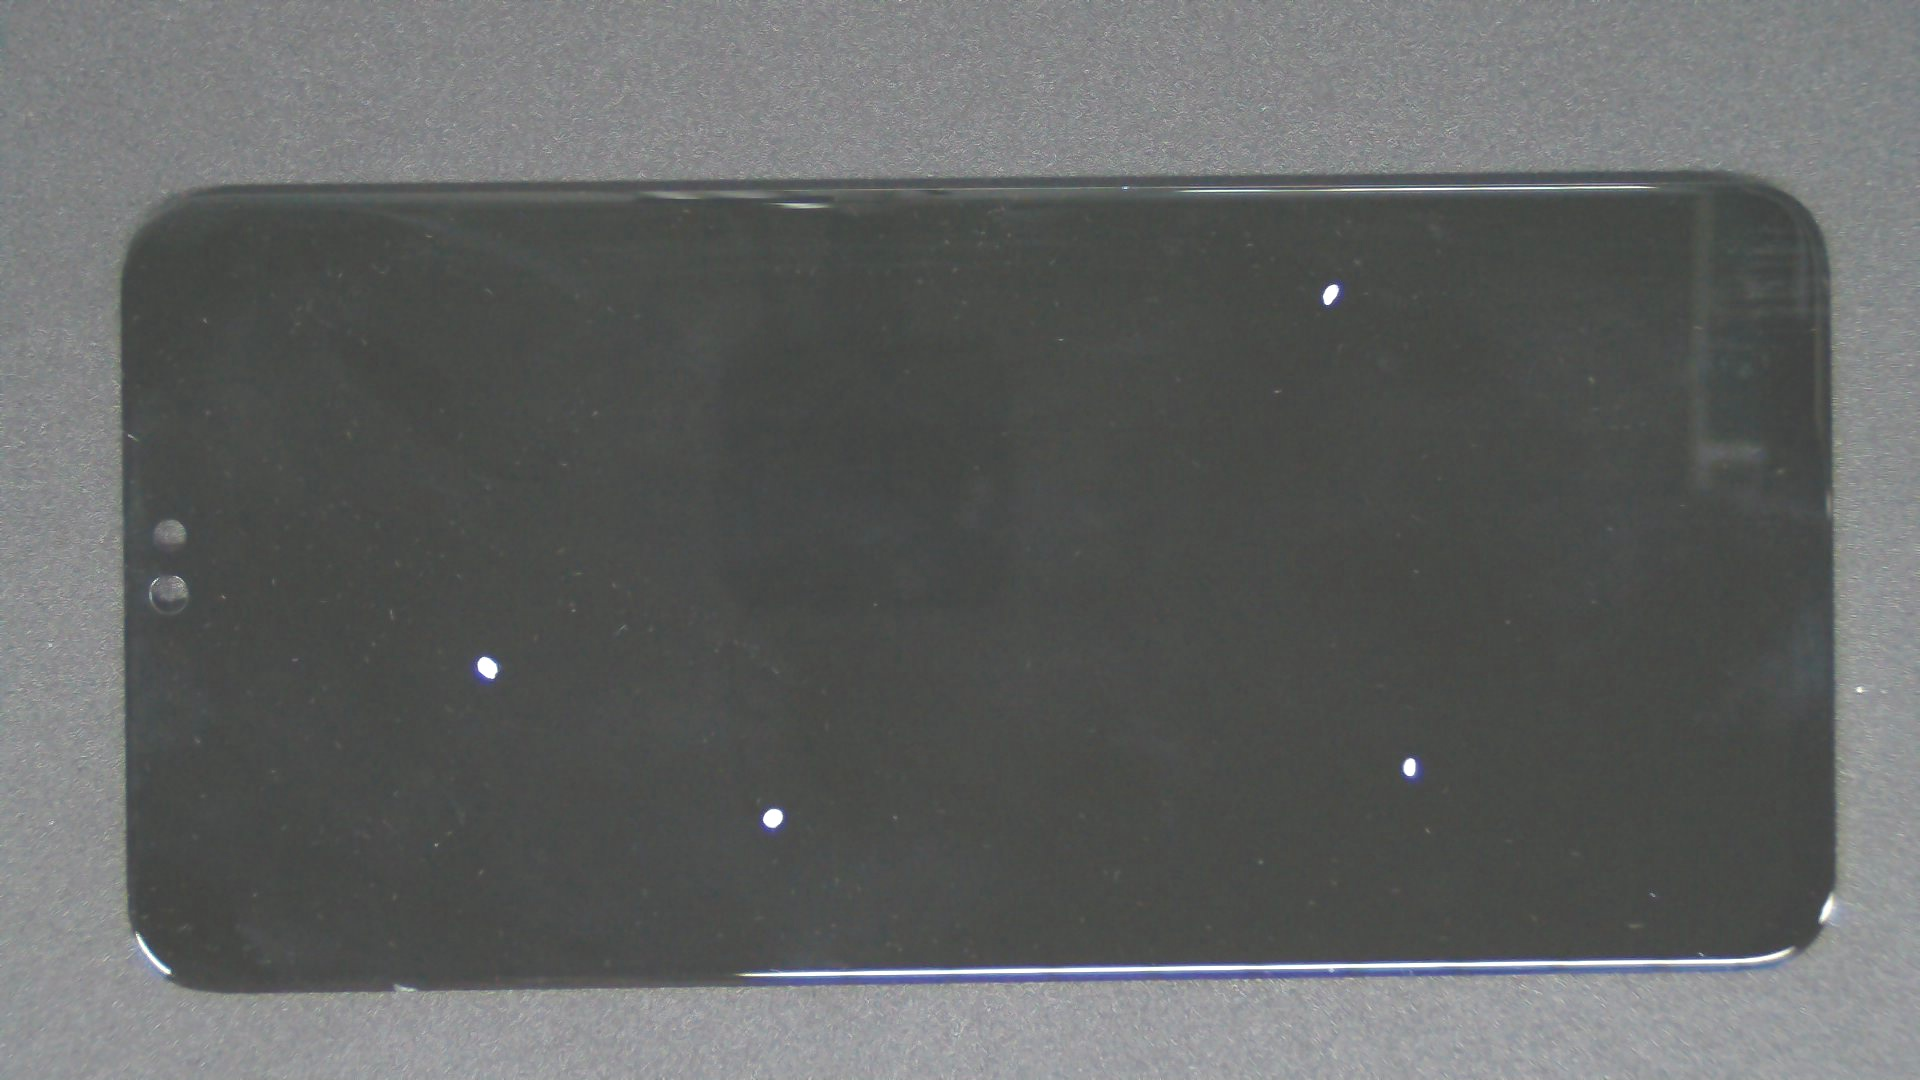oil: (705, 378, 1920, 1080), (385, 404, 1154, 1080), (667, 140, 1920, 429), (241, 327, 723, 985)
